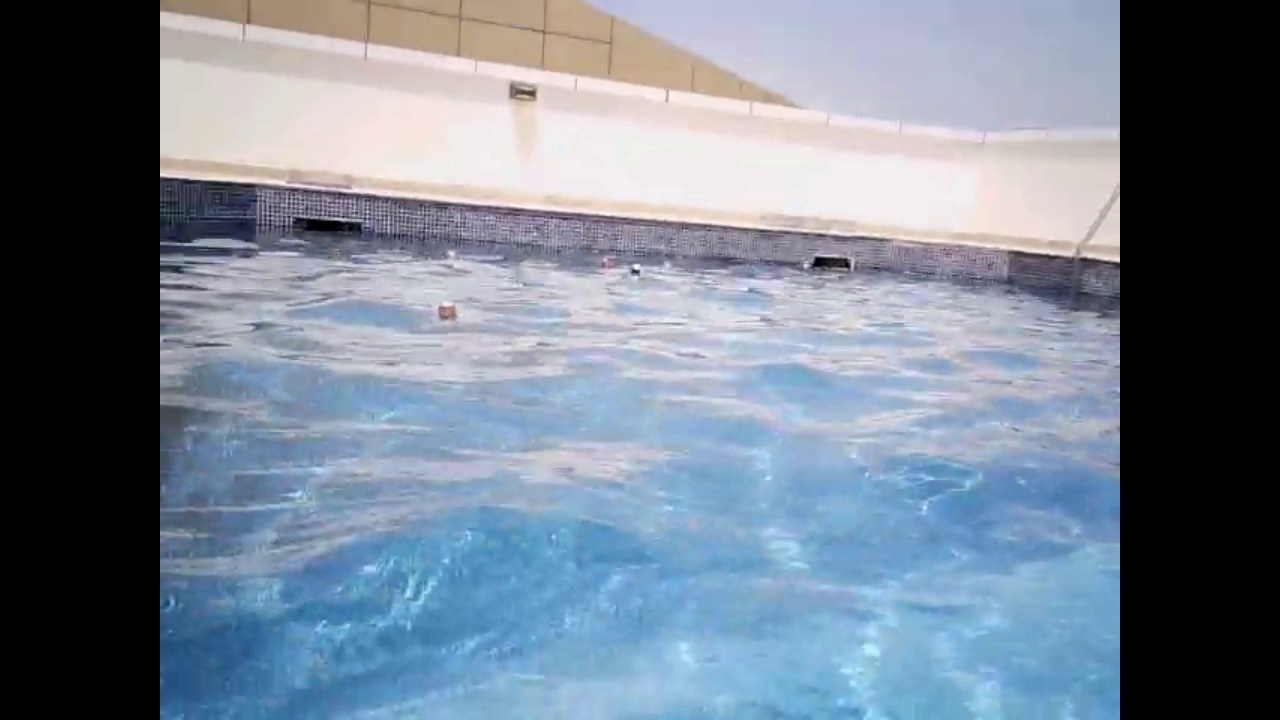debris: (434, 292, 461, 327), (624, 259, 646, 281), (597, 251, 612, 274), (441, 247, 461, 263), (797, 255, 813, 275), (658, 257, 674, 274)
